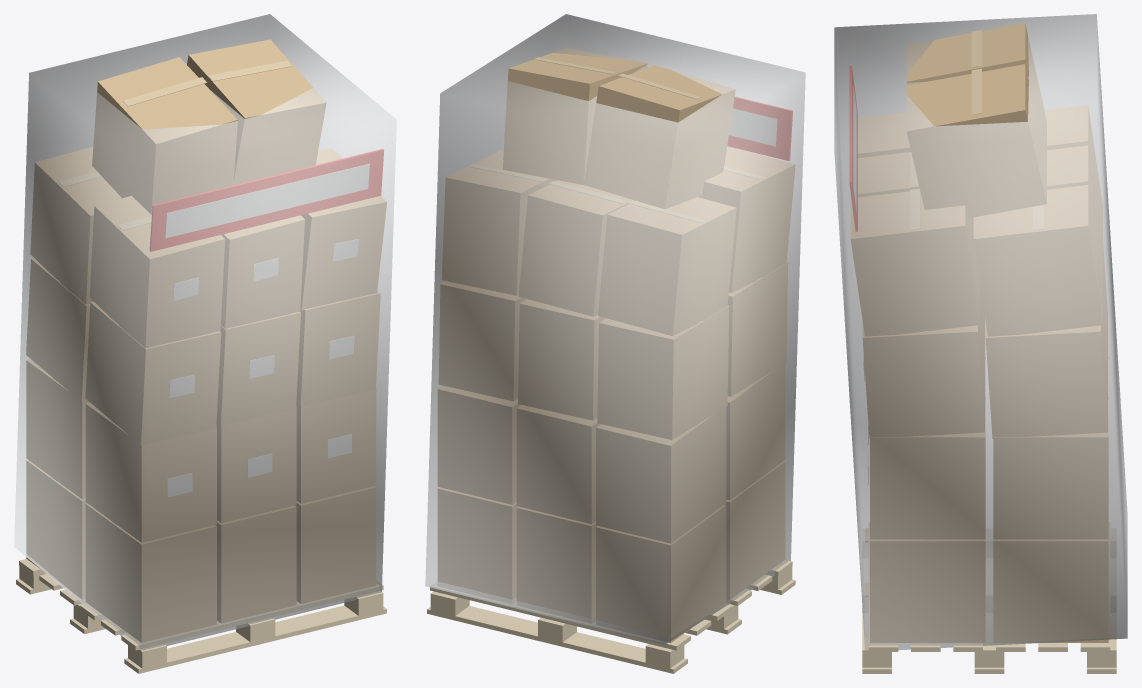
File: overloadedboxes.fbx
3 renders of one model, left to right at view 1: azimuth 30°, elevation 25°; view 2: azimuth 150°, elevation 25°; view 3: azimuth 270°, elevation 25°, orthographic. The views are drawn at different scales.
Visible parts, largest first — view 1: Hazard_Overloaded_Cargo_Stack; view 2: Hazard_Overloaded_Cargo_Stack; view 3: Hazard_Overloaded_Cargo_Stack.
Boxes of the visible parts, x1,y1,x2,y2 form: Hazard_Overloaded_Cargo_Stack: (14, 14, 396, 673); Hazard_Overloaded_Cargo_Stack: (425, 14, 805, 673); Hazard_Overloaded_Cargo_Stack: (834, 14, 1127, 673).
Bounding box in the file's own units: 140 × 286 × 138.
